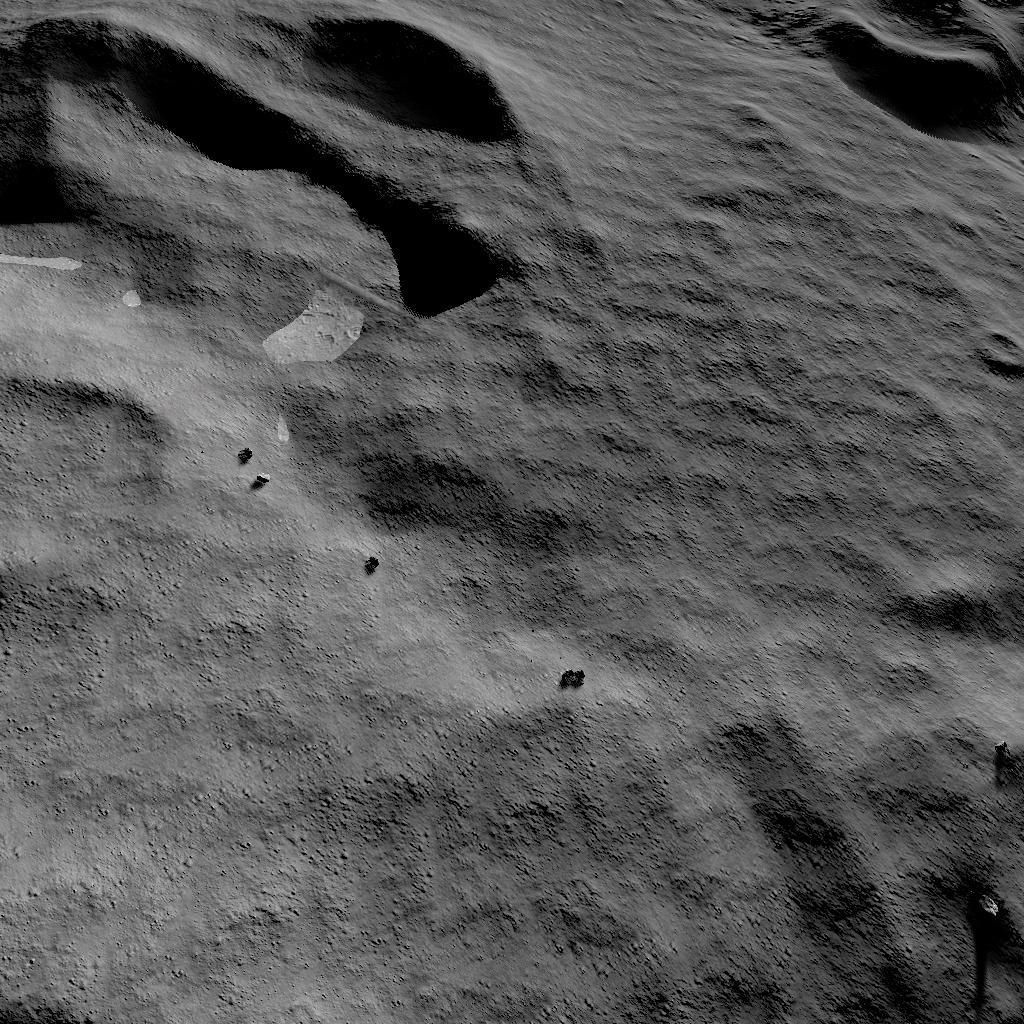Crater: (0, 0, 538, 333), (684, 0, 1024, 147), (0, 384, 168, 626), (957, 328, 1024, 376)
Plan surface: (7, 668, 524, 1024), (591, 287, 909, 806), (547, 820, 893, 1024)
